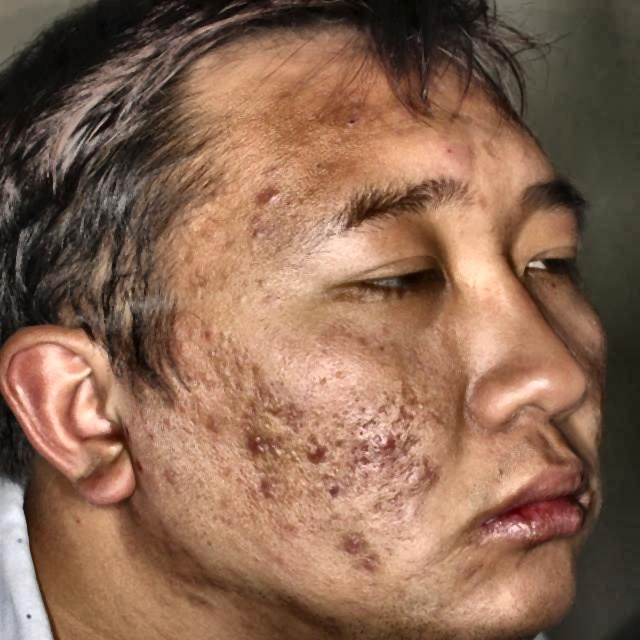pustule: (301, 435, 339, 467), (242, 424, 273, 463), (366, 430, 404, 460), (248, 181, 281, 211), (401, 459, 432, 488), (248, 479, 278, 506), (189, 322, 218, 347), (341, 534, 367, 554), (368, 556, 388, 576)
